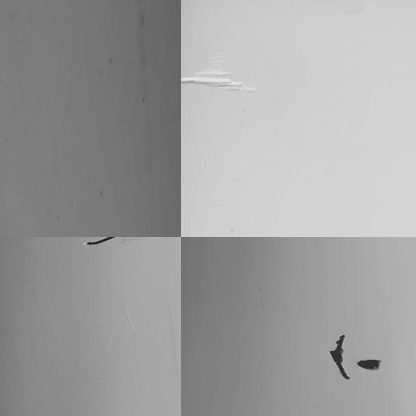fengxi: (81, 234, 122, 246)
kongdong: (329, 328, 354, 382), (356, 352, 383, 372)
sunshang: (182, 58, 257, 94)
